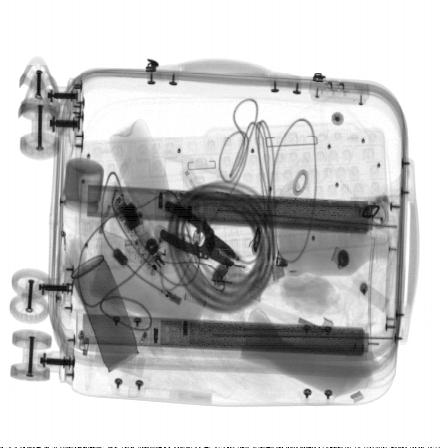Pliers: (159, 200, 242, 268)
